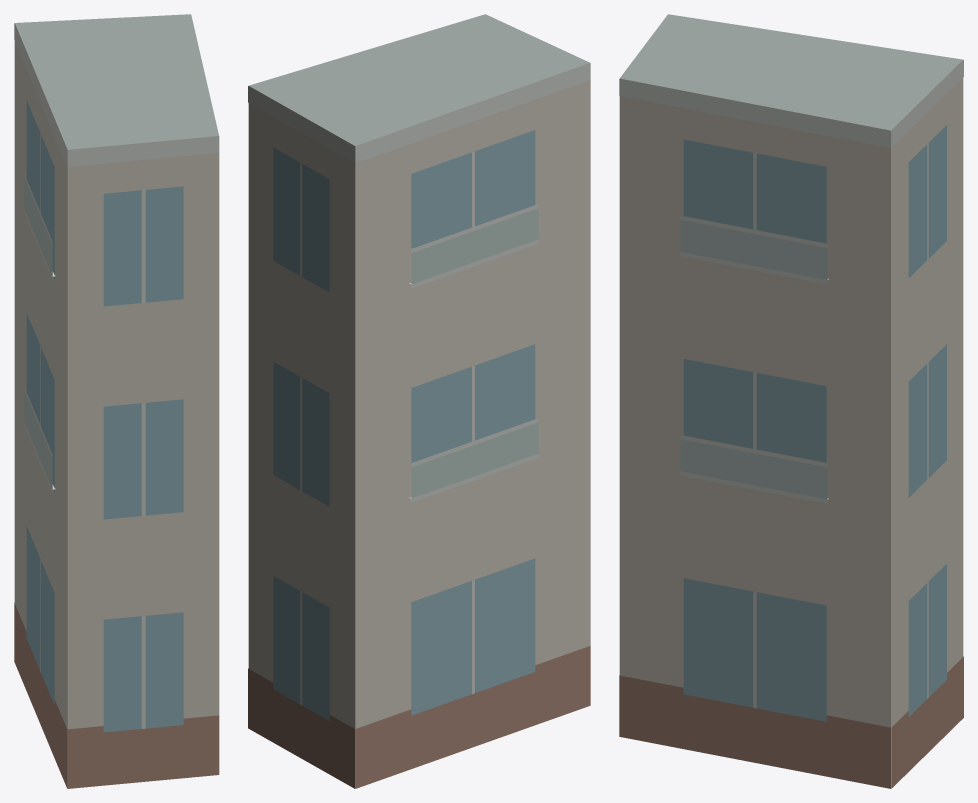
Rendered from survey-upis-32681432.glb.
3 views of the same model, side by side, from view 1: azimuth 30°, elevation 25°; view 2: azimuth 150°, elevation 25°; view 3: azimuth 270°, elevation 25° (orthographic). The views are drawn at different scales.
Visible parts, largest first — view 1: survey-upis-32681432.tmp; view 2: survey-upis-32681432.tmp; view 3: survey-upis-32681432.tmp.
Part boxes in pixels (<box>): survey-upis-32681432.tmp: <box>14,14,219,788</box>; survey-upis-32681432.tmp: <box>248,14,590,788</box>; survey-upis-32681432.tmp: <box>619,14,963,788</box>.
Size of the model in its own units: 3.48 by 9.15 by 4.34.
